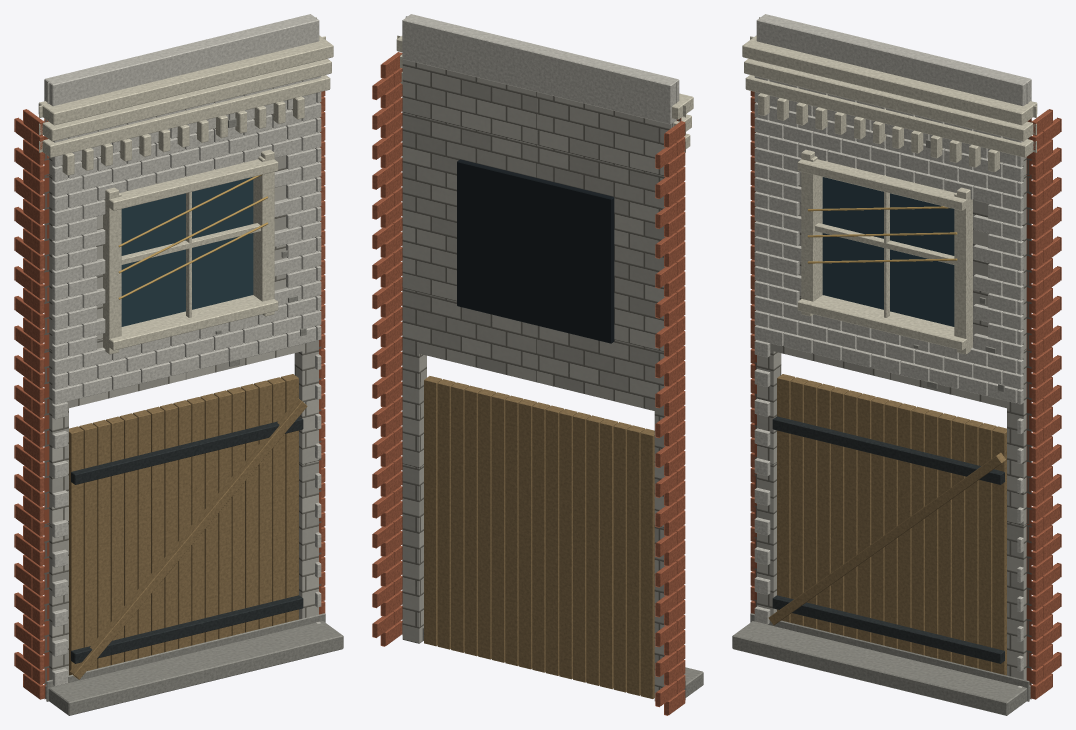
The model's file is WHSE12_lod0.glb.
The picture shows the model from 3 angles, left to right: view 1: azimuth 30°, elevation 25°; view 2: azimuth 150°, elevation 25°; view 3: azimuth 330°, elevation 25°; orthographic projection.
Parts seen in each view (by area): view 1: WHSE12_FRONT_LOD0; view 2: WHSE12_FRONT_LOD0; view 3: WHSE12_FRONT_LOD0.
Boxes of the visible parts, x1,y1,x2,y2 form: WHSE12_FRONT_LOD0: (14, 14, 343, 715); WHSE12_FRONT_LOD0: (372, 14, 703, 715); WHSE12_FRONT_LOD0: (732, 14, 1061, 715).
Size of the model in its own units: 3.44 by 7.05 by 1.02.
16 materials, 13 textured.
